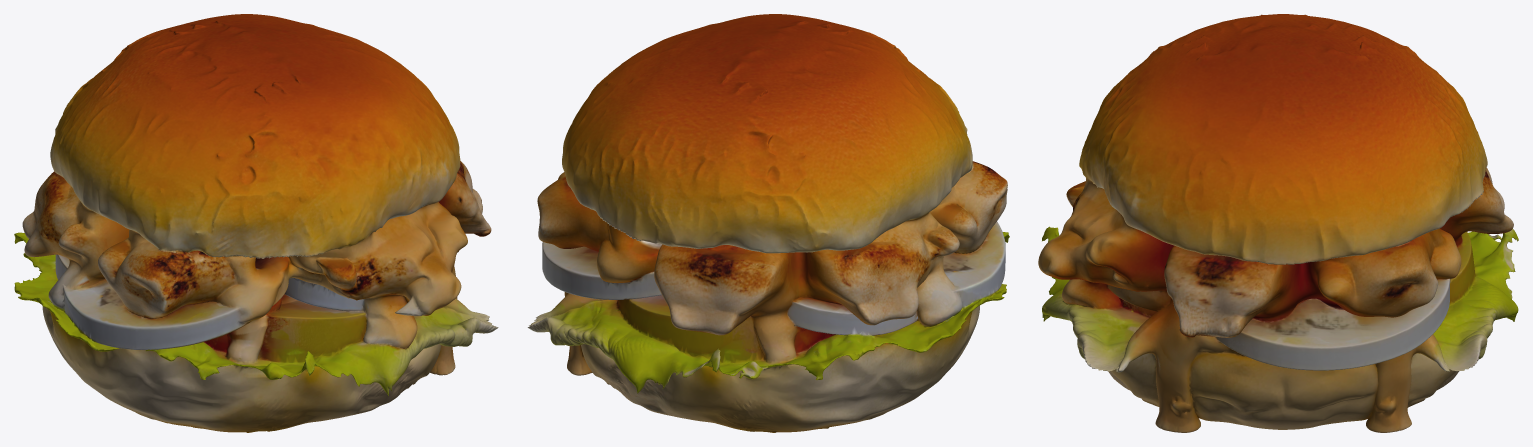
The model's file is country+3d+model.glb.
The picture shows the model from 3 angles, left to right: view 1: azimuth 30°, elevation 25°; view 2: azimuth 150°, elevation 25°; view 3: azimuth 270°, elevation 25°; orthographic projection.
Parts seen in each view (by area): view 1: tripo_node_08d546e9-2d2f-47c9-9a3d-557c9b3e6796; view 2: tripo_node_08d546e9-2d2f-47c9-9a3d-557c9b3e6796; view 3: tripo_node_08d546e9-2d2f-47c9-9a3d-557c9b3e6796.
Part boxes in pixels (x1,y1,x2,y2): tripo_node_08d546e9-2d2f-47c9-9a3d-557c9b3e6796: (14,14,498,432); tripo_node_08d546e9-2d2f-47c9-9a3d-557c9b3e6796: (527,14,1009,432); tripo_node_08d546e9-2d2f-47c9-9a3d-557c9b3e6796: (1038,14,1518,432).
Bounding box in the file's own units: 0.9789 × 0.7126 × 0.9776.
Materials: 1 (1 with a texture image).
